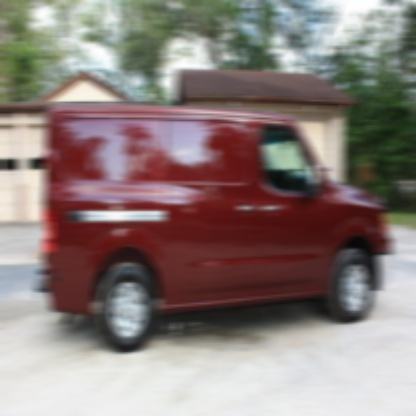Vehicle: (27, 45, 408, 387)
